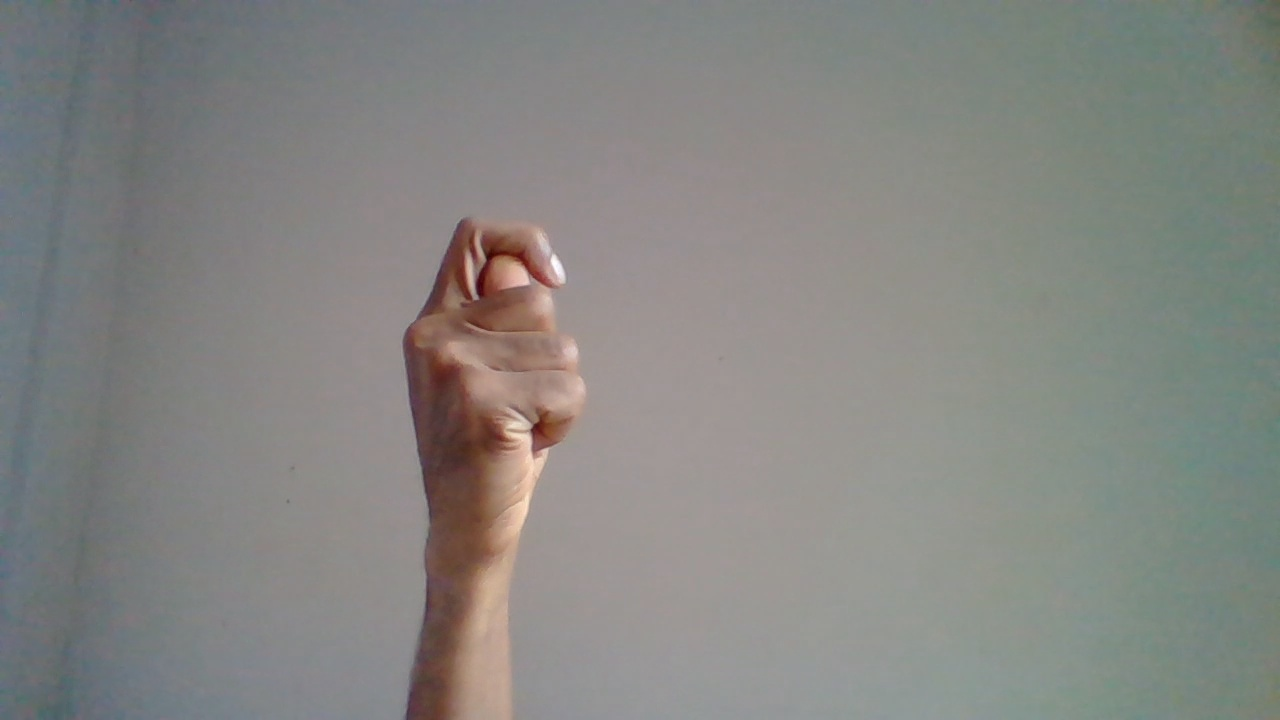che: (399, 217, 586, 672)
